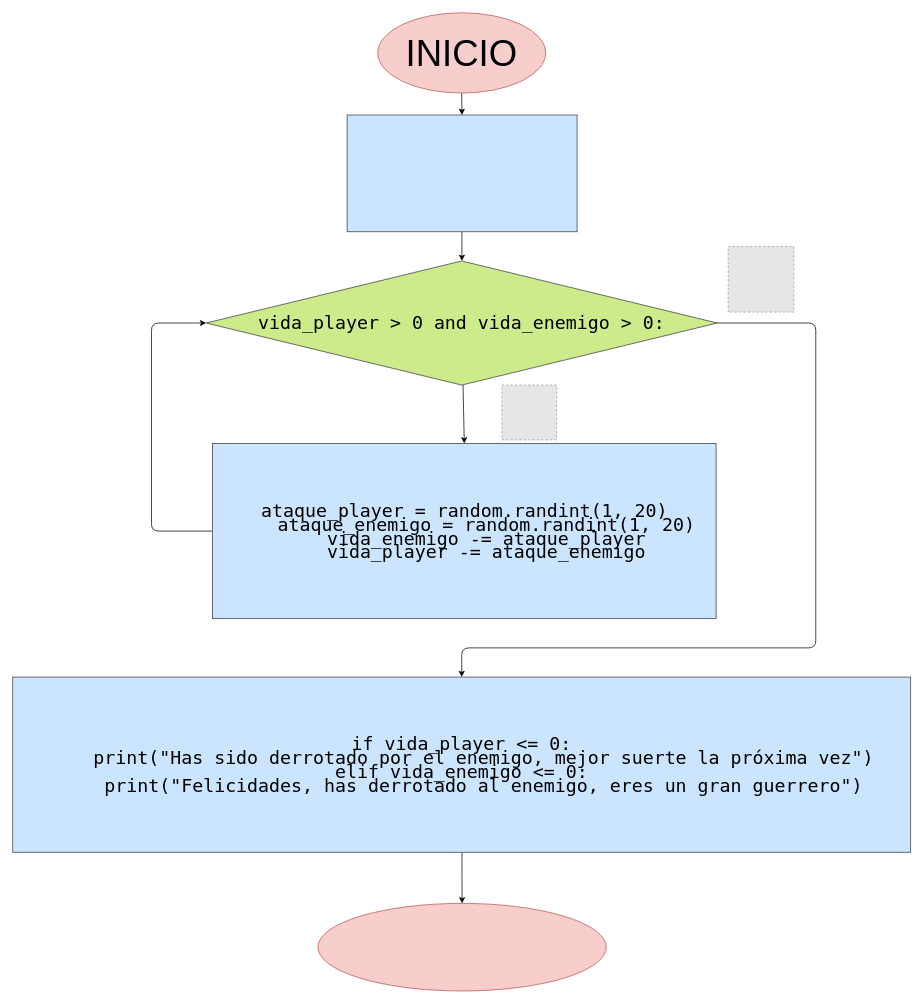
This 923x1004 diagram has some shape labels left out. Grey dashed boxes stand in for pictures. Here are the shapes that lost their labels. From the top down, the centre of each, then its label:
point 461,173: vida_player = 50 vida_enemigo = 50 ataque_player = 0 ataque_enemigo = 0
point 461,947: FIN
